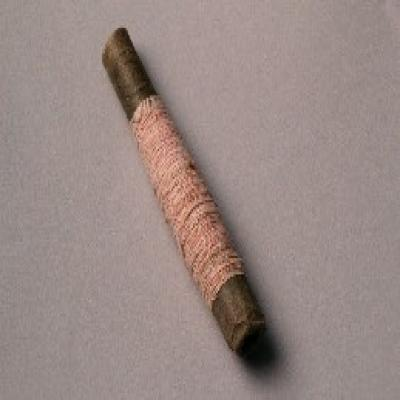technique: (100, 28, 269, 365)
